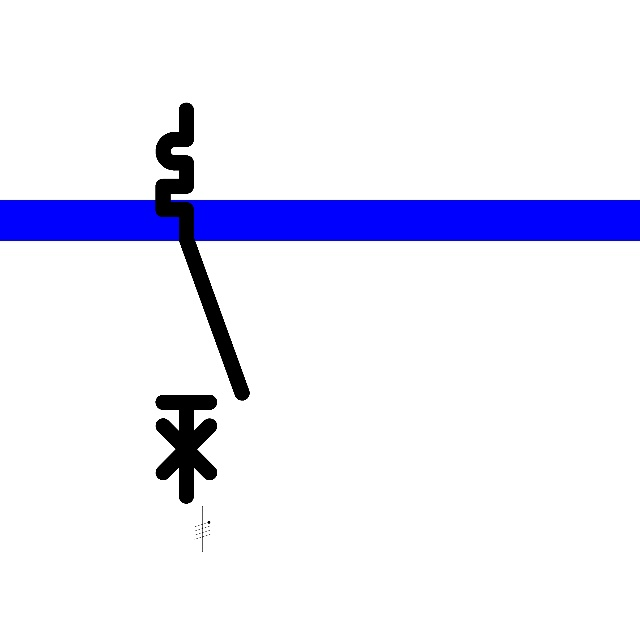interruptor_termomagnetico: (153, 100, 252, 506)
